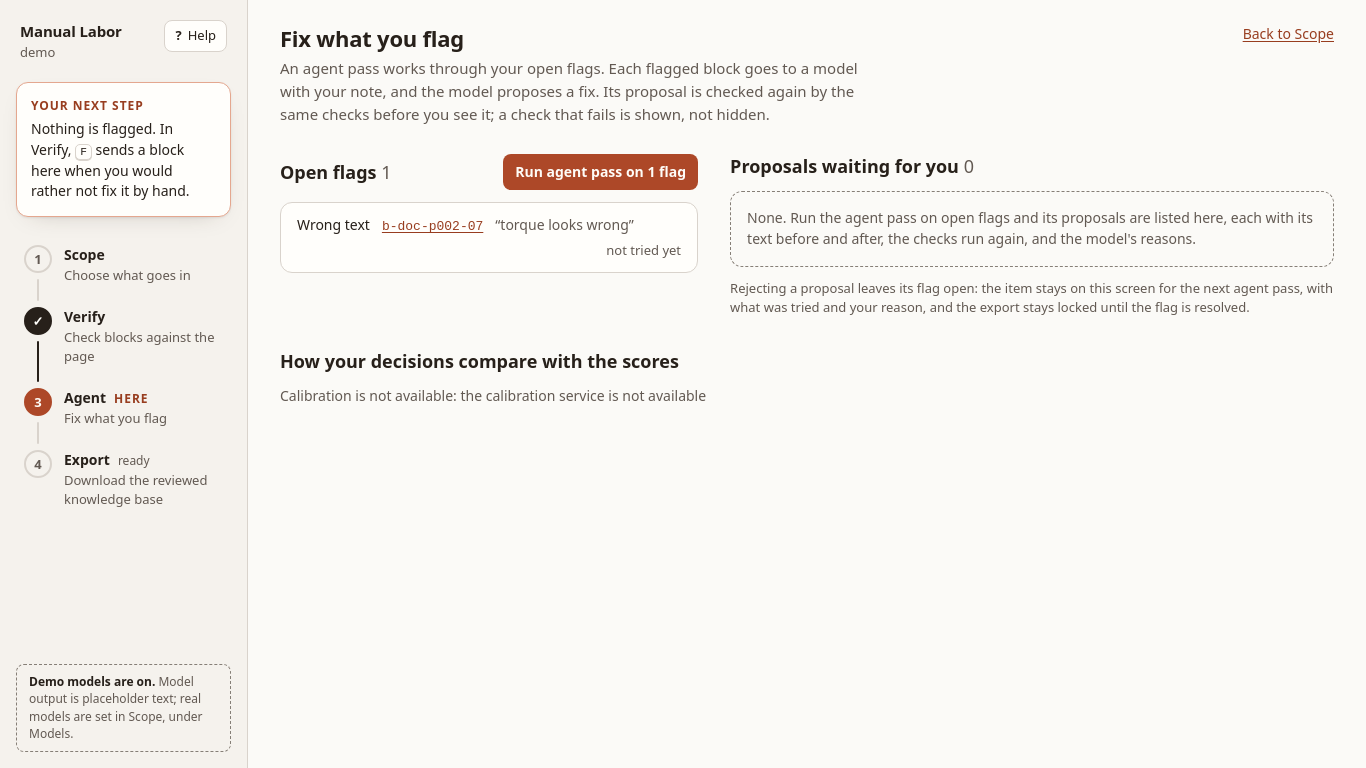
Scenario: the flag card after agent passes that failed › the 'started' line is replaced by how the pass ended
What coordinates should you click on to do the following:
click the button with test id "agent-run"
I would click on:
 (601, 172)
Its box is 503,154 -> 698,190.
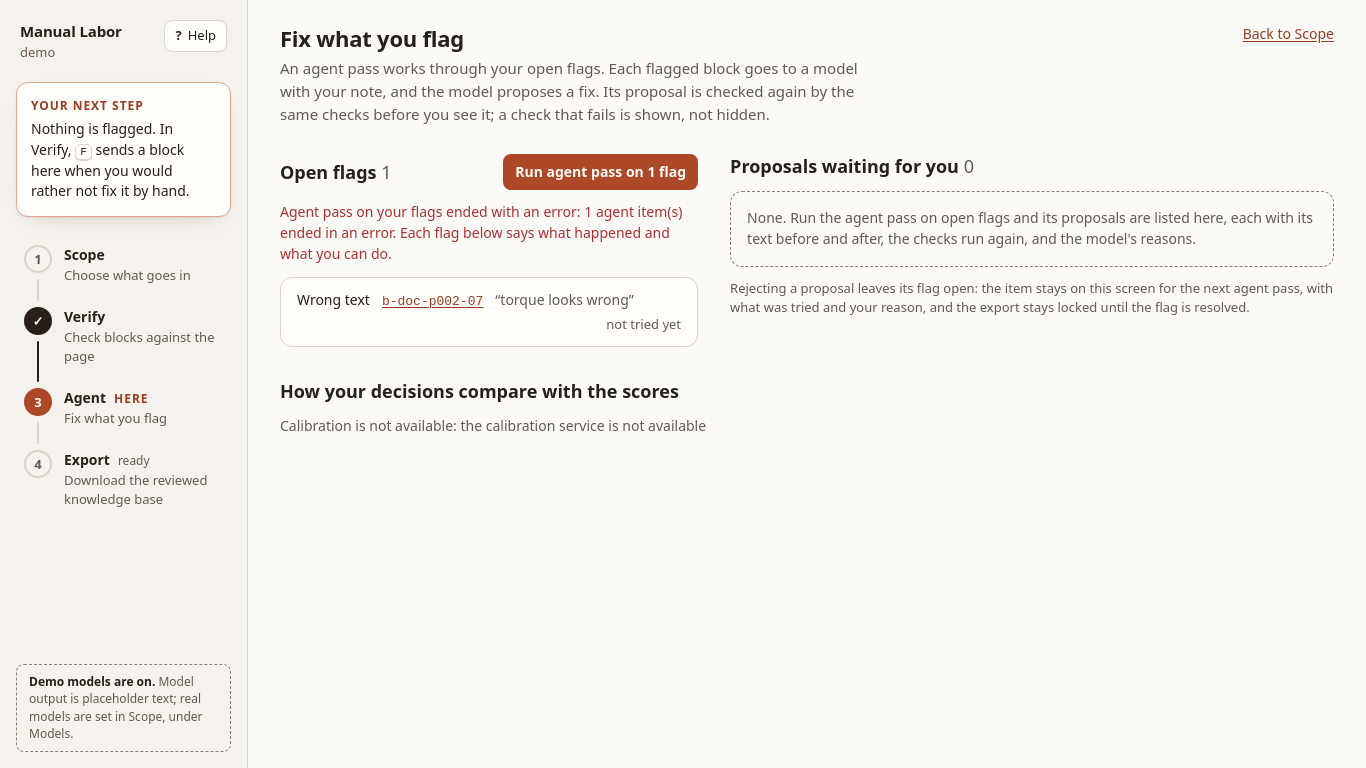
Now the text with test id "agent-run-outcome" reads "Agent pass on your flags ended with an error: 1 agent item(s) ended in an error.", box 280,202 -> 682,263
